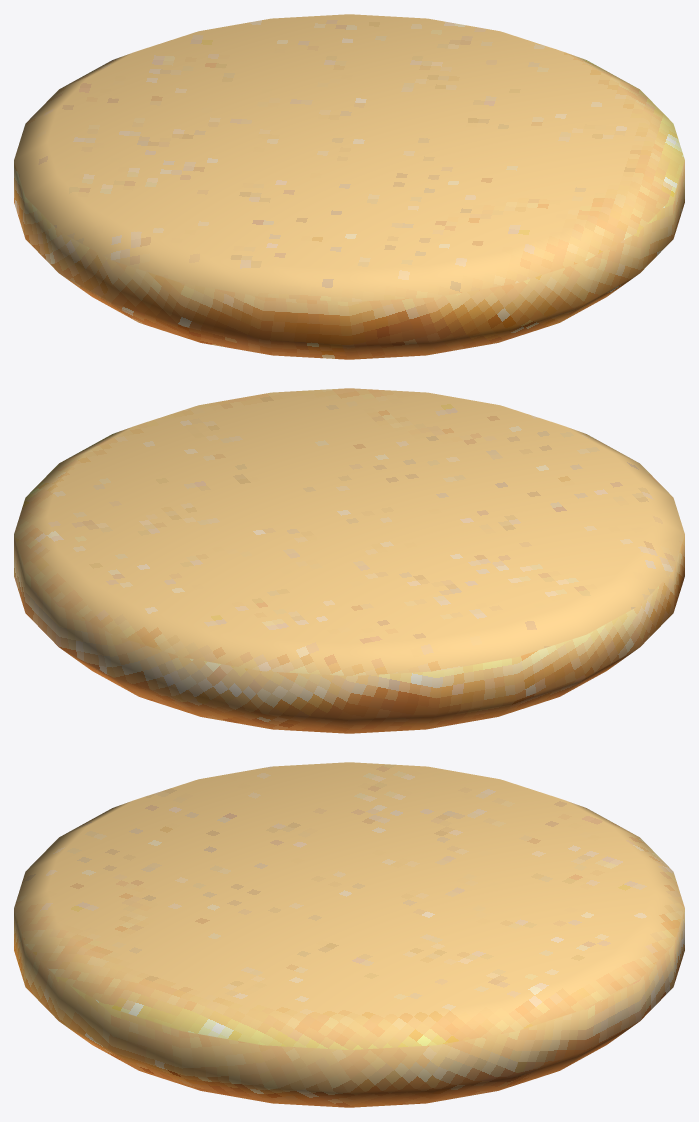
The model's file is bottom-bun.glb.
3 views of the same model, one above another, from view 1: azimuth 30°, elevation 25°; view 2: azimuth 150°, elevation 25°; view 3: azimuth 270°, elevation 25° (orthographic).
Parts seen in each view (by area): view 1: Circle.004; view 2: Circle.004; view 3: Circle.004.
Part boxes in pixels (x1=…): Circle.004: x1=14, y1=14, x2=684, y2=359; Circle.004: x1=14, y1=388, x2=684, y2=733; Circle.004: x1=14, y1=762, x2=684, y2=1107.
Bounding box in the file's own units: 20 × 3.03 × 20.
Materials: 1 (1 with a texture image).
